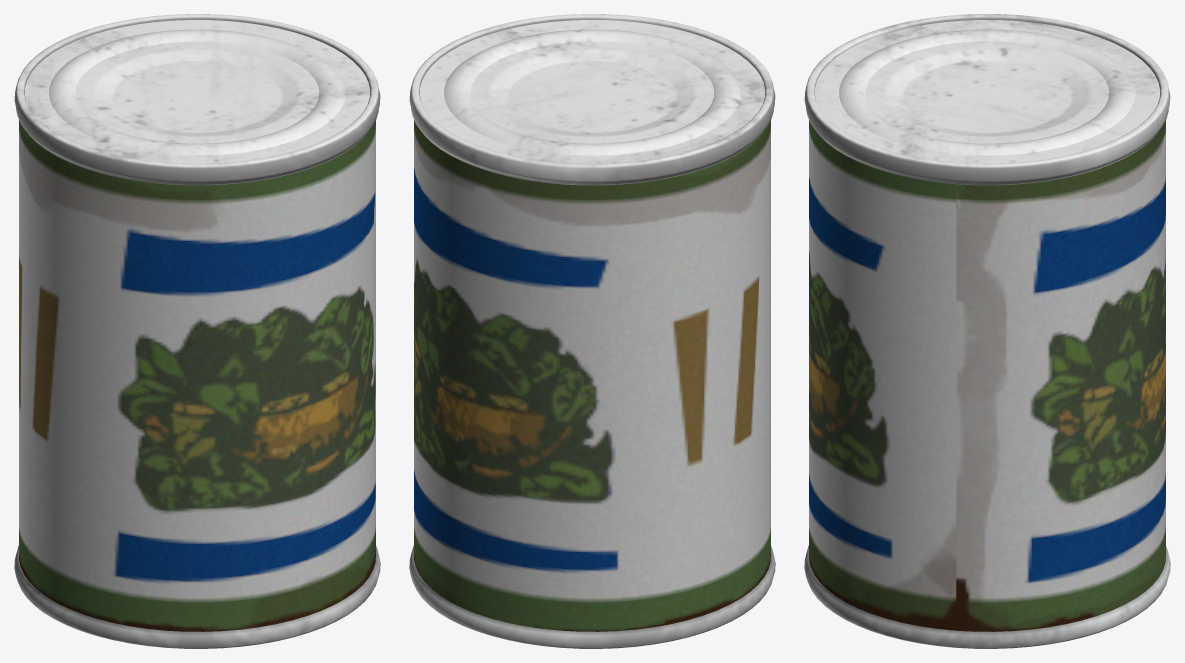
File: SM_FoodCan03.fbx
The picture shows the model from 3 angles, left to right: view 1: azimuth 30°, elevation 25°; view 2: azimuth 150°, elevation 25°; view 3: azimuth 270°, elevation 25°; orthographic projection.
Parts seen in each view (by area): view 1: SM_FoodCan03_LOD0; view 2: SM_FoodCan03_LOD0; view 3: SM_FoodCan03_LOD0.
Boxes of the visible parts, x1,y1,x2,y2 form: SM_FoodCan03_LOD0: [14, 14, 380, 648]; SM_FoodCan03_LOD0: [409, 14, 775, 648]; SM_FoodCan03_LOD0: [804, 14, 1170, 648].
Size of the model in its own units: 10.33 by 10.33 by 15.16.
Materials: 1 (1 with a texture image).
